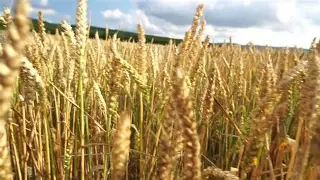crops: (0, 11, 313, 175), (112, 32, 168, 88), (210, 39, 314, 53)
